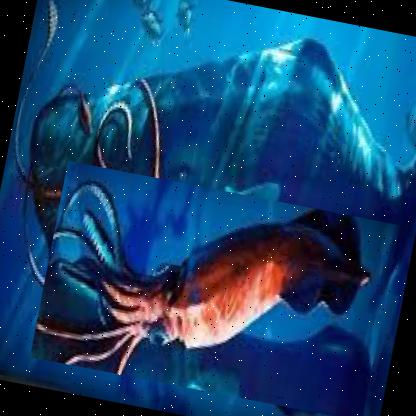colossal_squid: (28, 160, 400, 415)
